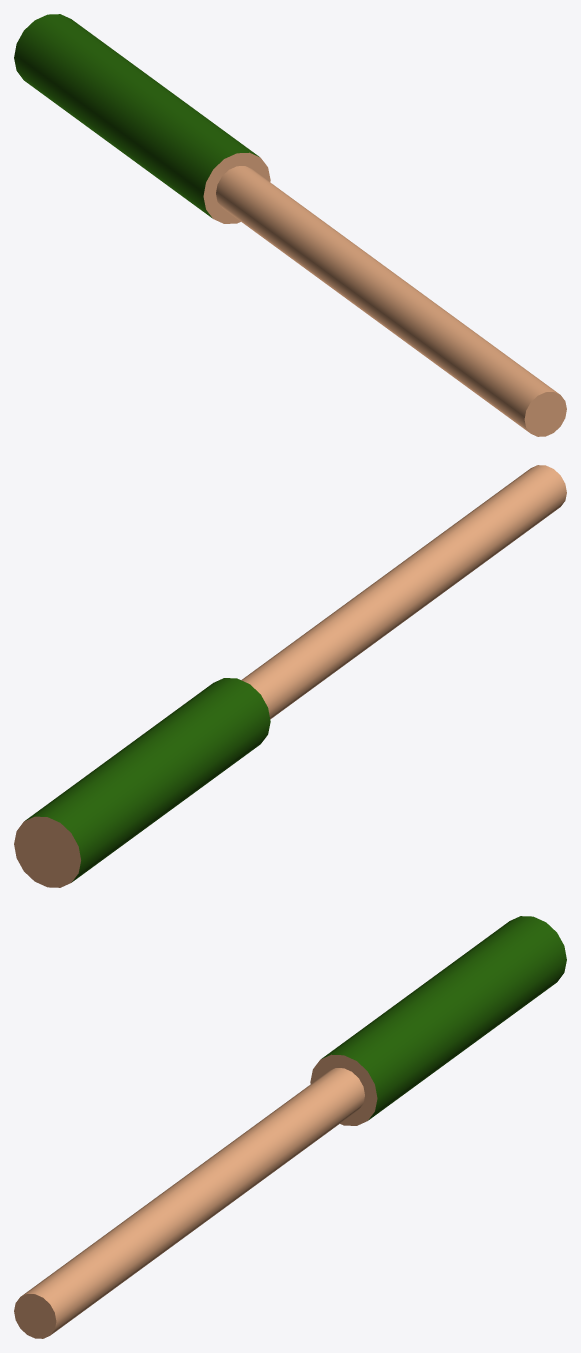
File: Bamboo Gun Slider.fbx
3 renders of one model, top to bottom at view 1: azimuth 30°, elevation 25°; view 2: azimuth 150°, elevation 25°; view 3: azimuth 330°, elevation 25°, orthographic.
Visible parts, largest first — view 1: Bamboo Gun Slider; view 2: Bamboo Gun Slider; view 3: Bamboo Gun Slider.
Boxes of the visible parts, x1,y1,x2,y2 form: Bamboo Gun Slider: (14,14,566,436); Bamboo Gun Slider: (14,465,566,887); Bamboo Gun Slider: (14,916,566,1338).
Size of the model in its own units: 3.66 by 3.66 by 47.02.
